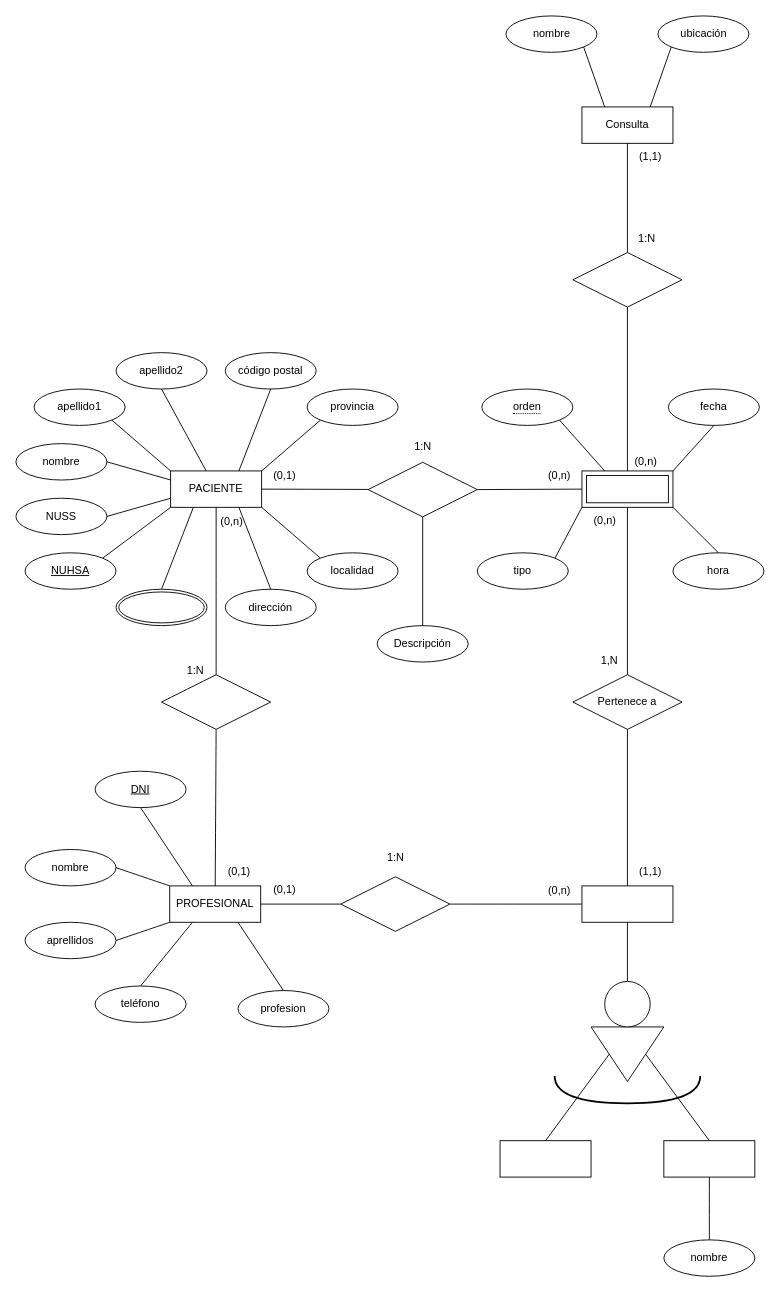
The diagram is 780 pixels wide and 1292 high, and some of its shapes have lost their labels. The centre of each missing label's shape, as x and y in pixels:
AGENDA: the point at 627,903
AGENDA PROFESIONAL: the point at 545,1158
AGENDA TAREA: the point at 709,1158
Asignado a: the point at 216,701
CITA: the point at 627,488
Realiza: the point at 395,903
se realiza en: the point at 627,279
solicita: the point at 422,489
teléfonos: the point at 161,607
